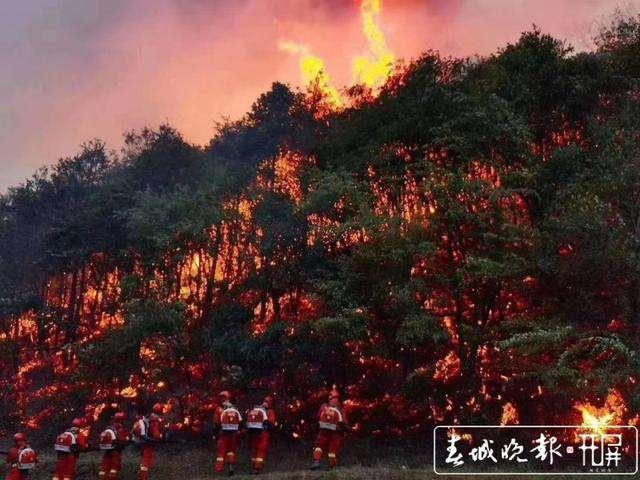fire: (282, 14, 403, 108), (578, 372, 636, 443), (178, 249, 266, 287)
